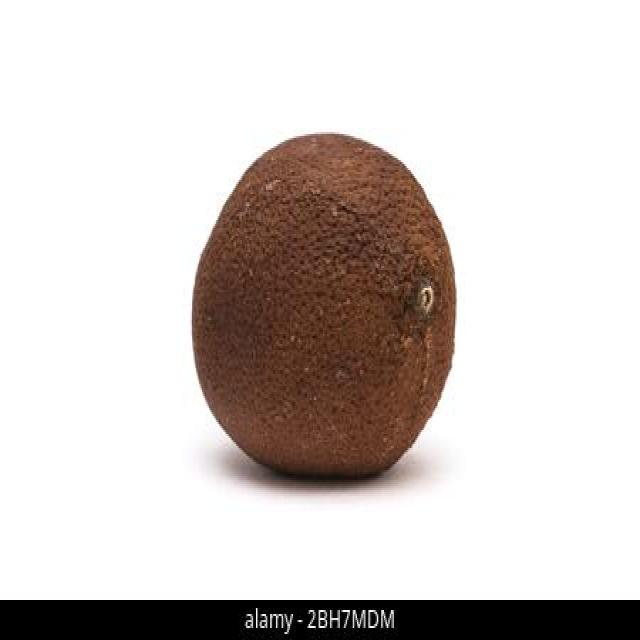overripe: (187, 128, 463, 488)
